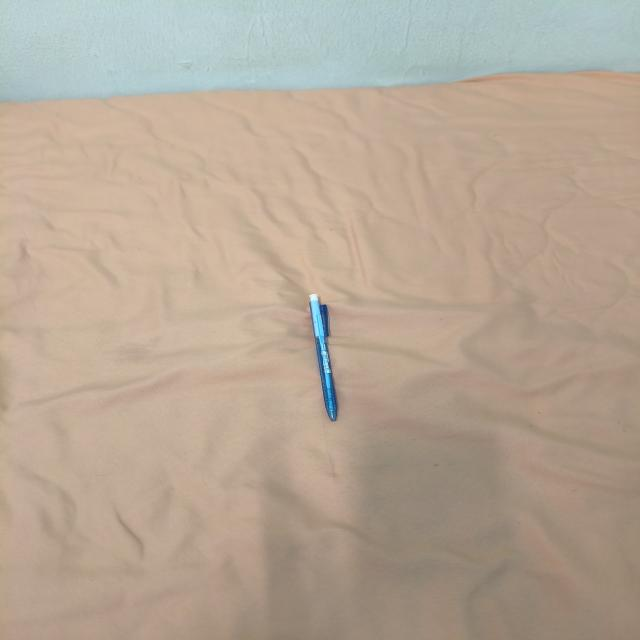pen: (309, 293, 339, 423)
